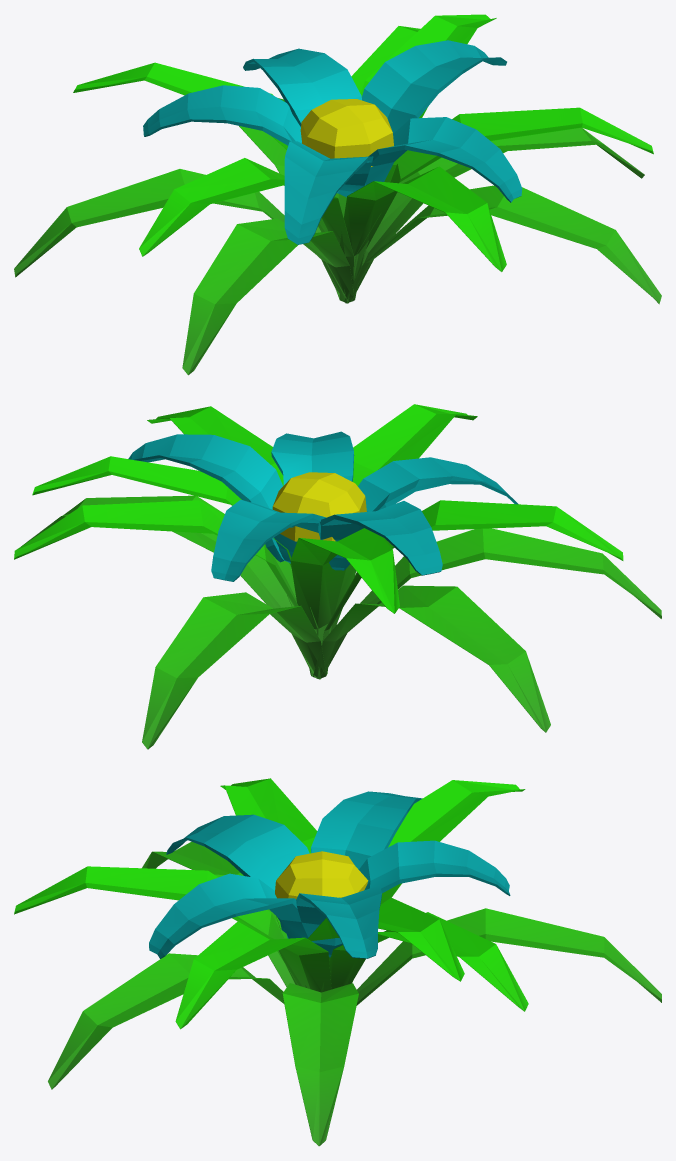
Rendered from Flower.fbx.
The picture shows the model from 3 angles, top to bottom: view 1: azimuth 30°, elevation 25°; view 2: azimuth 150°, elevation 25°; view 3: azimuth 270°, elevation 25°; orthographic projection.
Visible parts, largest first — view 1: Grass; view 2: Grass; view 3: Grass.
Part boxes in pixels (x1=…): Grass: x1=14, y1=14, x2=661, y2=375; Grass: x1=14, y1=404, x2=661, y2=749; Grass: x1=14, y1=778, x2=661, y2=1146.
Bounding box in the file's own units: 169 × 59.61 × 165.
